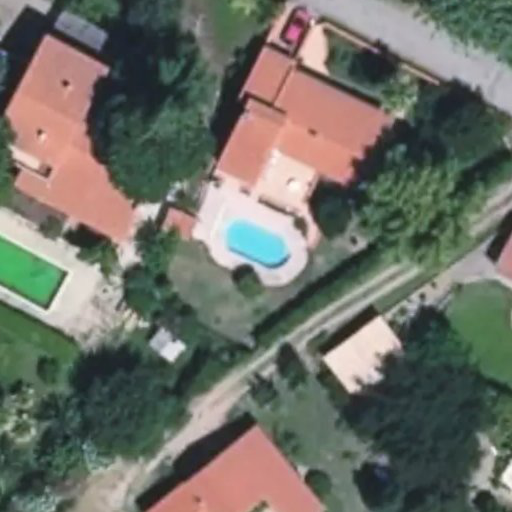pool: (1, 231, 70, 313), (222, 219, 295, 271)
